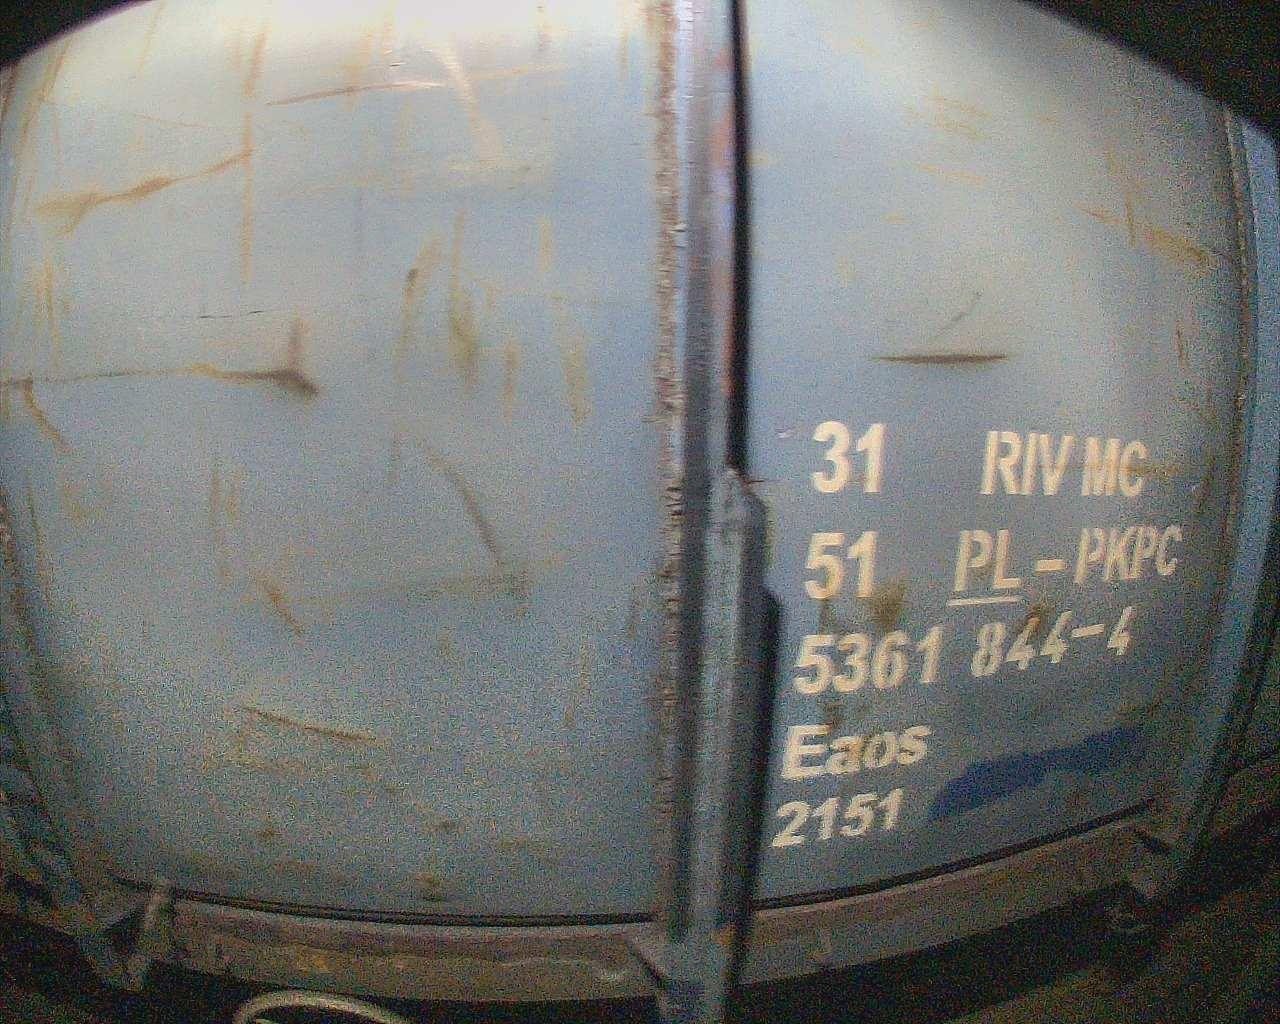UIC: (770, 419, 1187, 850)
